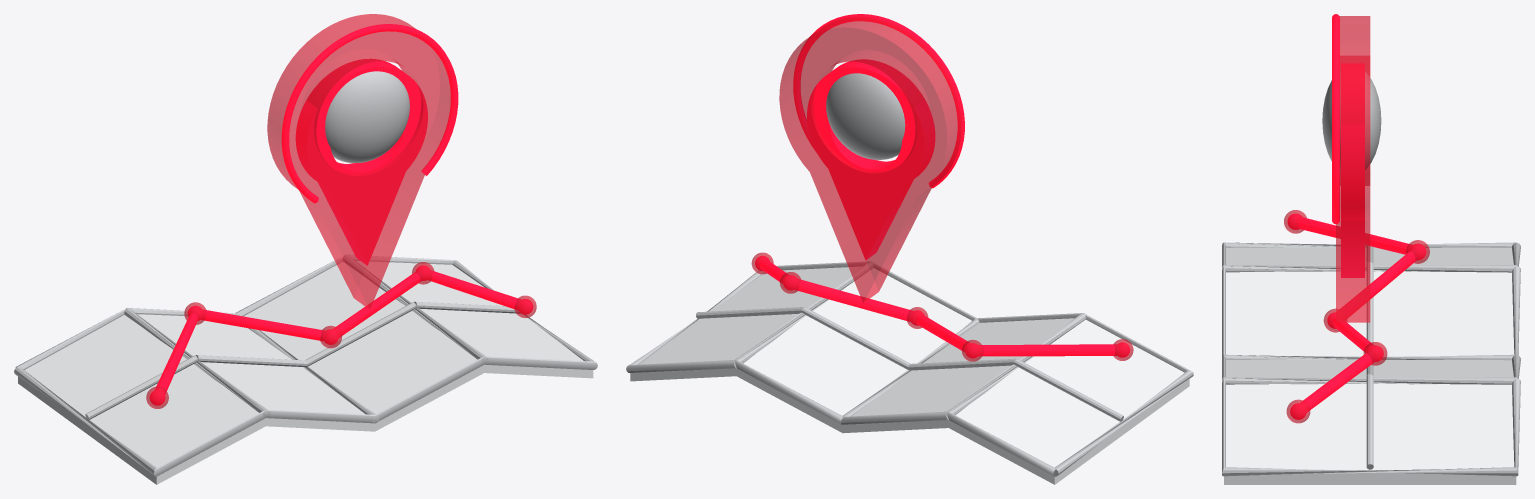
The model's file is 07-geoanalytics.glb.
3 views of the same model, side by side, from view 1: azimuth 30°, elevation 25°; view 2: azimuth 150°, elevation 25°; view 3: azimuth 270°, elevation 25° (orthographic). The views are drawn at different scales.
Visible parts, largest first — view 1: BC clear optical glass, BC ruby optical glass, BC satin iron, BC internal ruby light; view 2: BC clear optical glass, BC ruby optical glass, BC satin iron, BC internal ruby light; view 3: BC clear optical glass, BC satin iron, BC ruby optical glass, BC internal ruby light.
Boxes of the visible parts, x1,y1,x2,y2 form: BC clear optical glass: [18, 261, 593, 484]; BC ruby optical glass: [146, 14, 536, 408]; BC satin iron: [14, 71, 597, 476]; BC internal ruby light: [149, 24, 533, 405]; BC clear optical glass: [630, 266, 1189, 484]; BC ruby optical glass: [751, 17, 1133, 361]; BC satin iron: [626, 73, 1193, 476]; BC internal ruby light: [755, 14, 1130, 358]; BC clear optical glass: [1224, 247, 1516, 484]; BC satin iron: [1222, 70, 1520, 476]; BC ruby optical glass: [1284, 16, 1429, 423]; BC internal ruby light: [1287, 14, 1426, 419].
Bounding box in the file's own units: 2.03 × 1.55 × 1.12.
